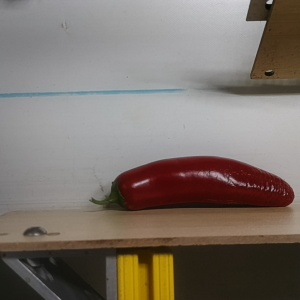Cut Point: (105, 172, 139, 212)
